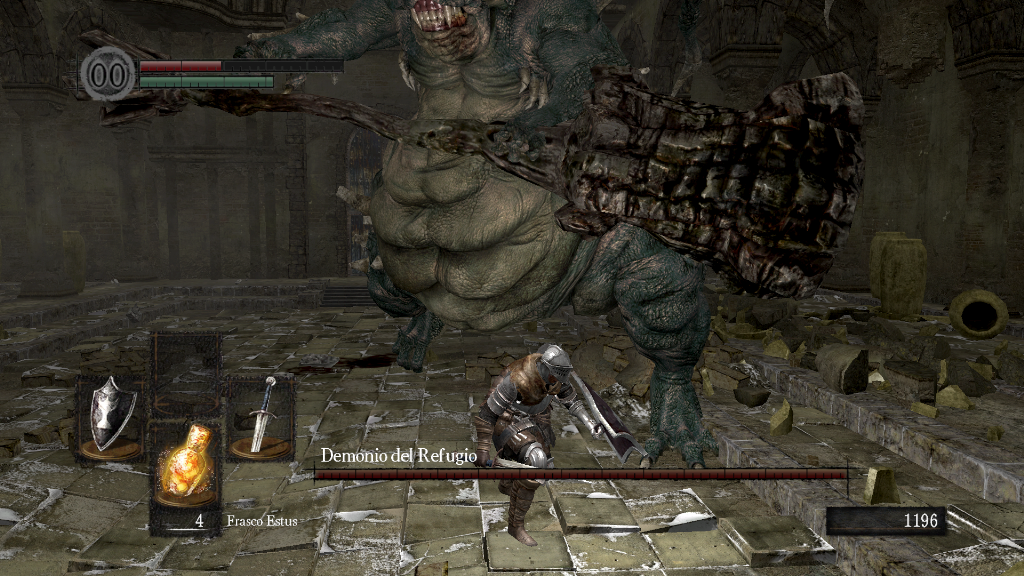asylumDemon: (84, 2, 867, 469)
bossHP: (314, 469, 847, 479)
health: (138, 58, 343, 71)
humanity: (80, 45, 136, 102)
player: (472, 344, 640, 549)
souls: (825, 506, 945, 536)
stamina: (138, 74, 274, 88)
